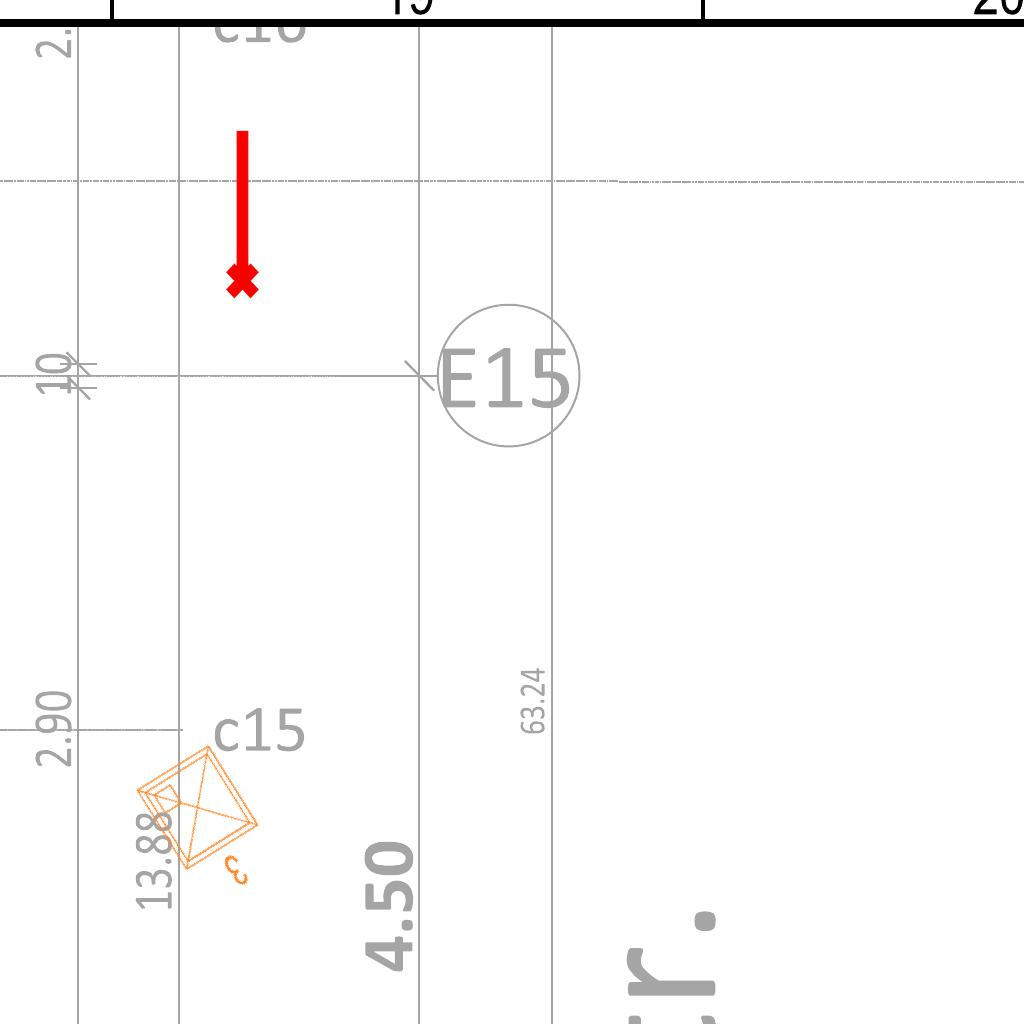ASR_Ansaugoeffnung: (217, 125, 263, 301)
Einbaudownlights_LED_Konferenzraeume: (126, 732, 294, 916)
